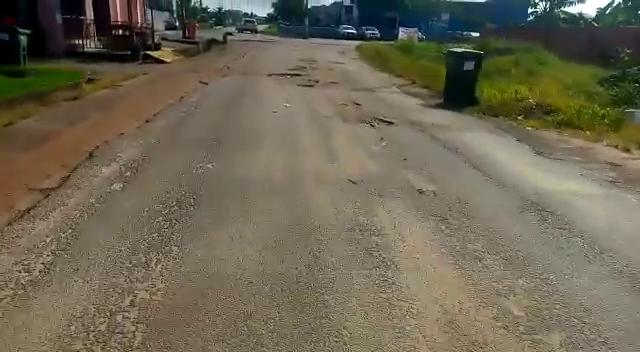pothole: (264, 72, 307, 81), (366, 116, 394, 129)
